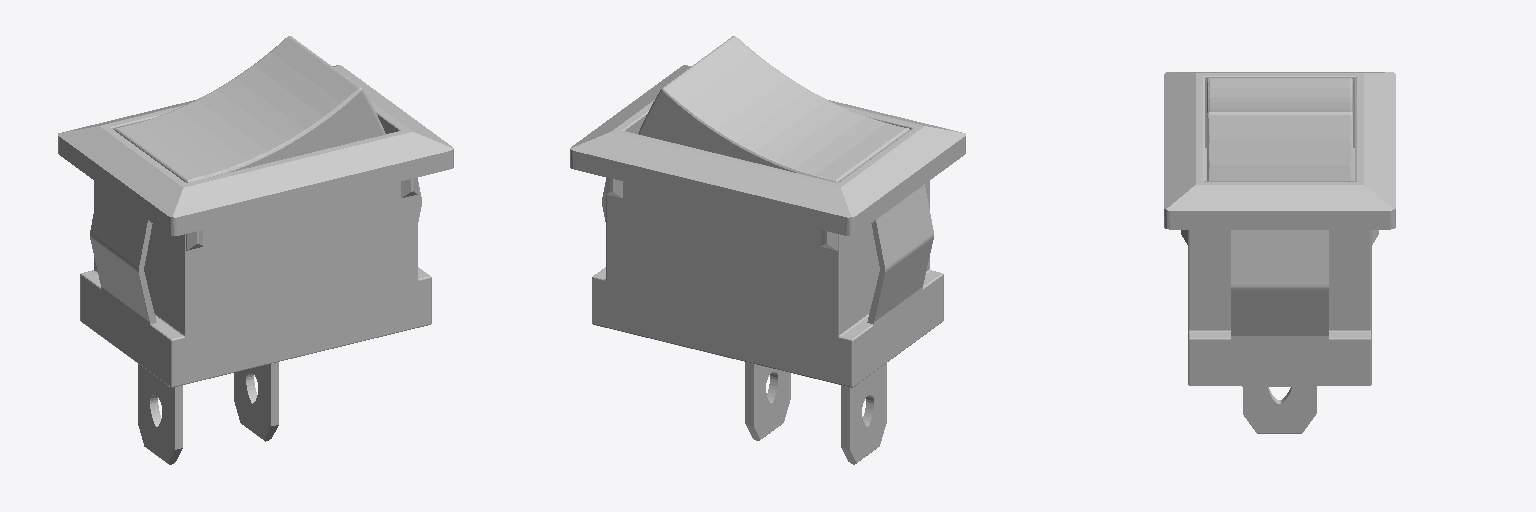
Rendered from Switch 21x15mm.obj.
3 views of the same model, side by side, from view 1: azimuth 30°, elevation 25°; view 2: azimuth 150°, elevation 25°; view 3: azimuth 270°, elevation 25° (orthographic).
Visible parts, largest first — view 1: Solid2, Solid4, Solid3; view 2: Solid2, Solid4, Solid3; view 3: Solid2, Solid3.
Boxes of the visible parts, <box> form: Solid2: <box>58,36,453,387</box>; Solid4: <box>138,364,182,464</box>; Solid3: <box>234,362,278,441</box>; Solid2: <box>570,36,965,387</box>; Solid4: <box>841,363,886,464</box>; Solid3: <box>745,362,790,440</box>; Solid2: <box>1164,72,1395,386</box>; Solid3: <box>1243,387,1316,433</box>.
Bounding box in the file's own units: 20.8 × 24.82 × 14.7.